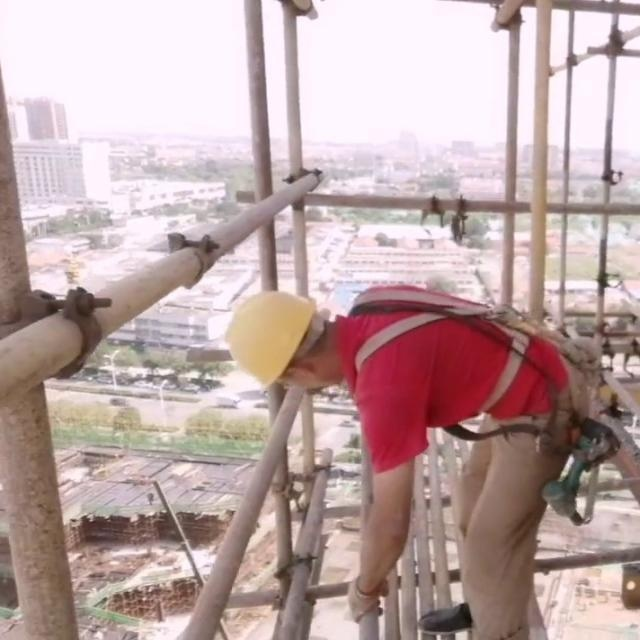Arnes_seguridad: (341, 281, 547, 420)
